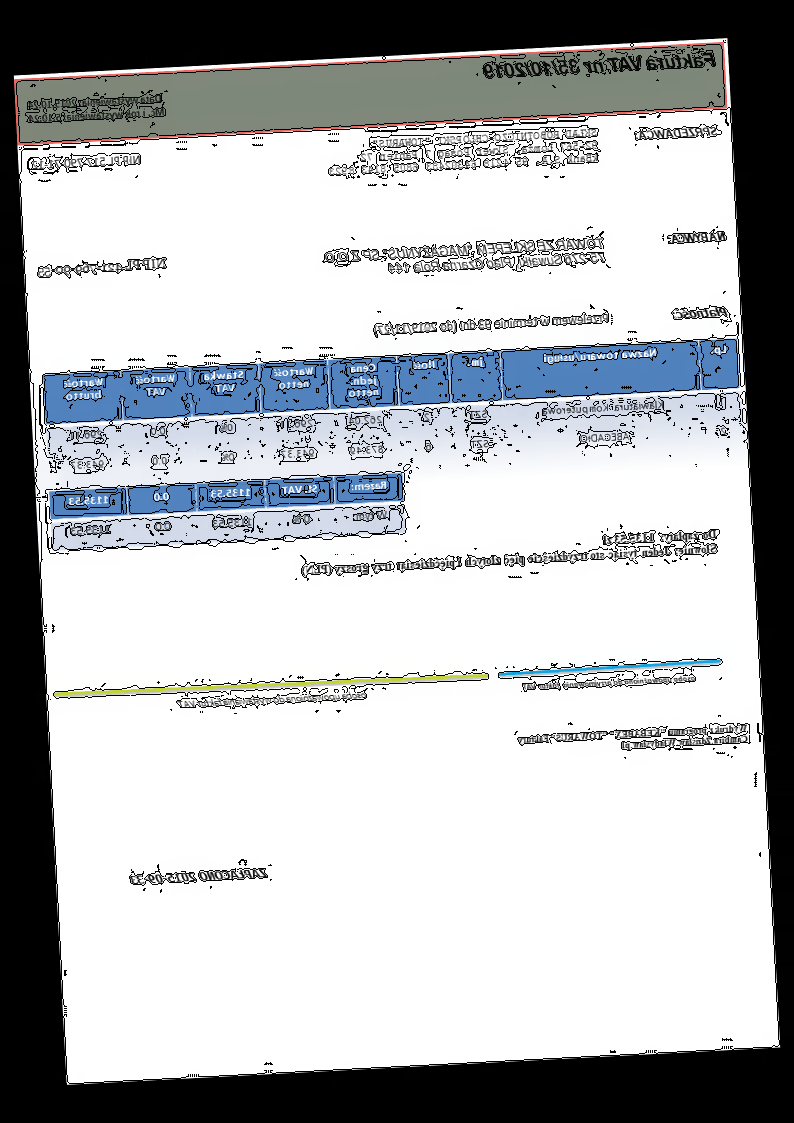Table: (42, 337, 744, 487), (47, 471, 407, 552)
TextBox: (297, 525, 721, 580), (326, 125, 601, 178), (317, 235, 608, 280), (514, 721, 752, 758), (481, 49, 718, 82), (374, 310, 611, 337), (25, 92, 167, 125), (173, 688, 369, 711), (520, 672, 698, 692), (35, 255, 168, 280), (128, 864, 269, 887), (30, 151, 144, 173), (633, 123, 720, 143), (667, 228, 728, 247), (670, 304, 729, 321)
